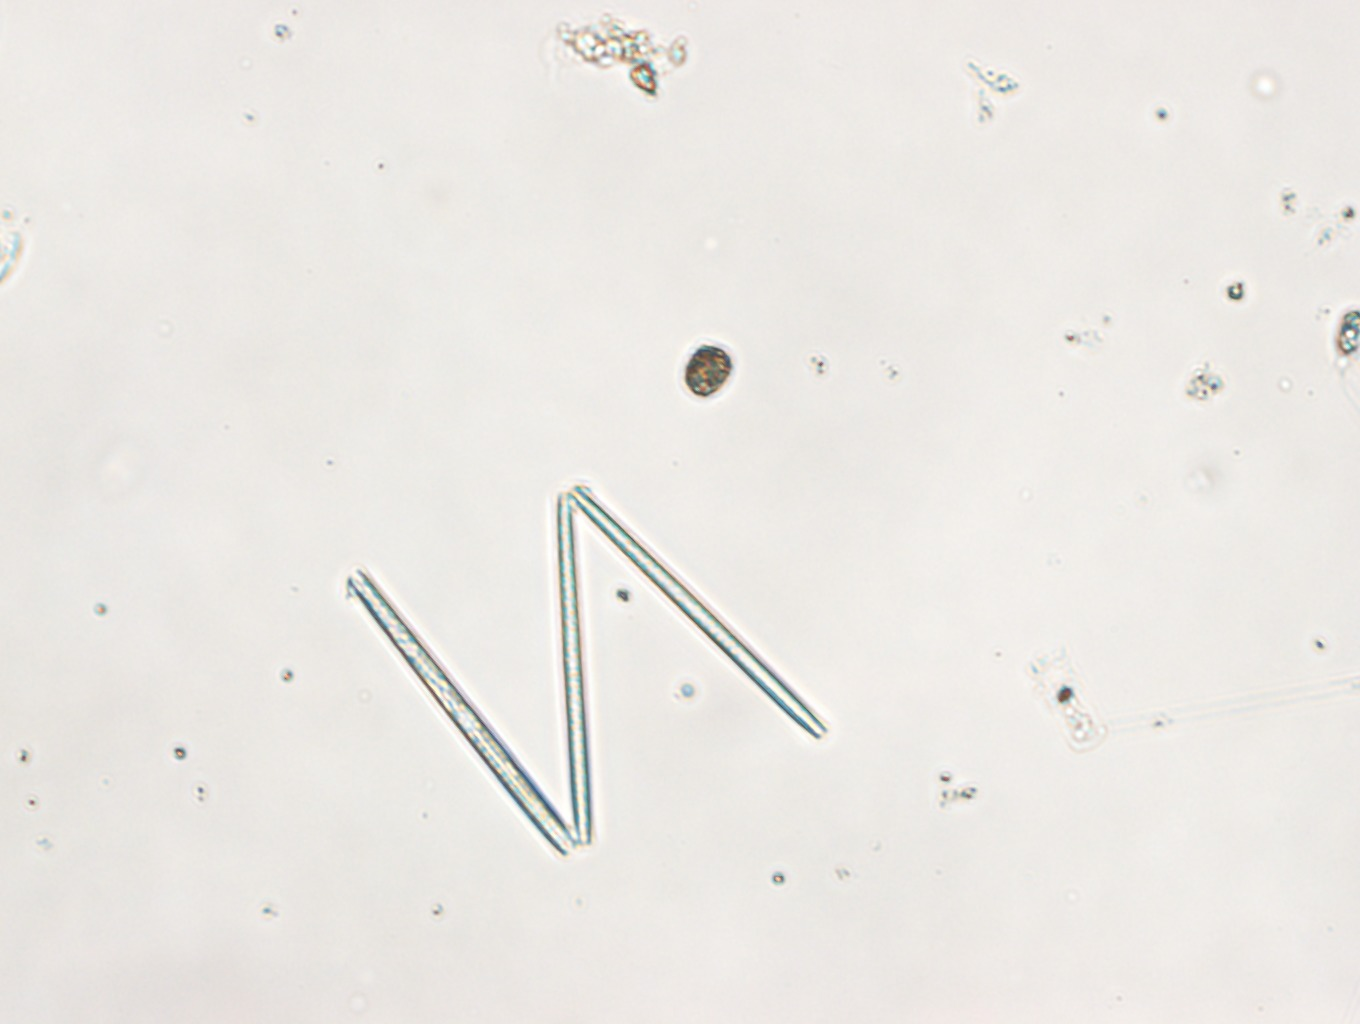thalassionema nitzschioides: (347, 485, 830, 855)
